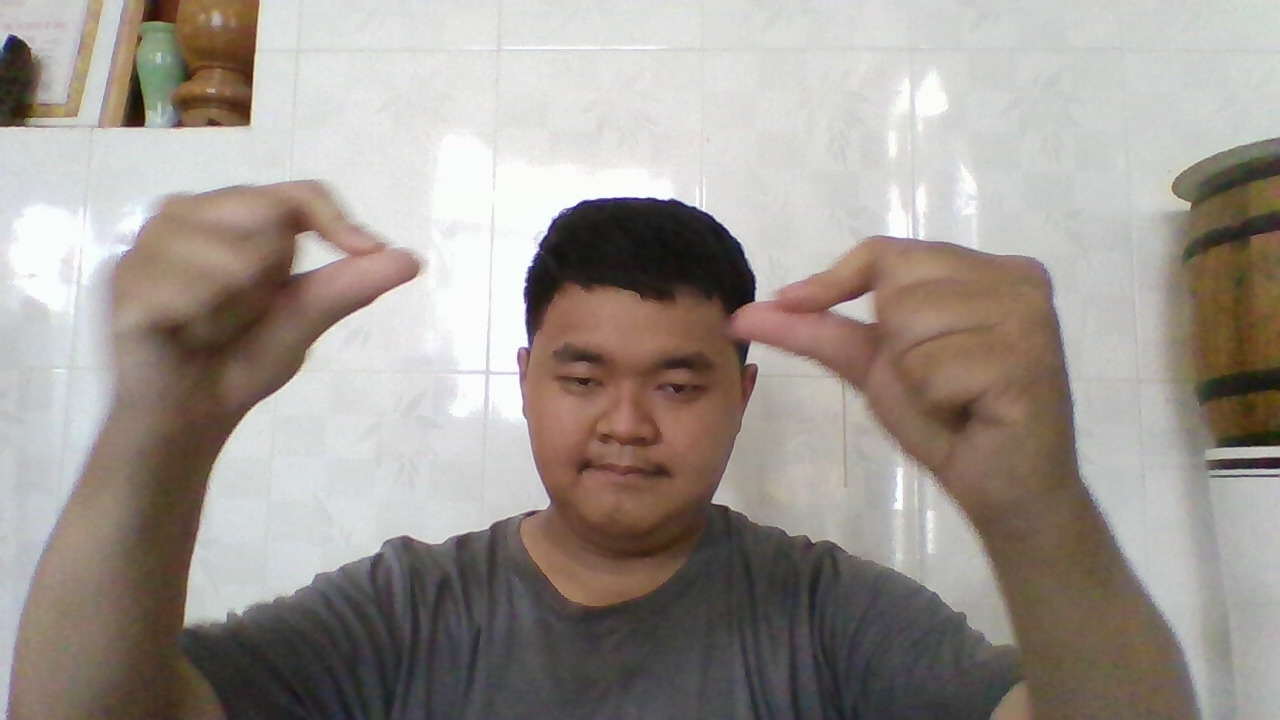S: (744, 237, 1050, 520), (108, 173, 414, 431)
